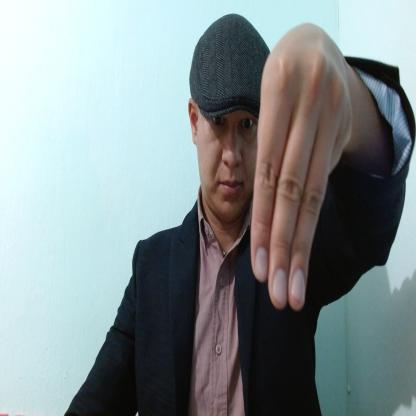M: (251, 23, 355, 309)
